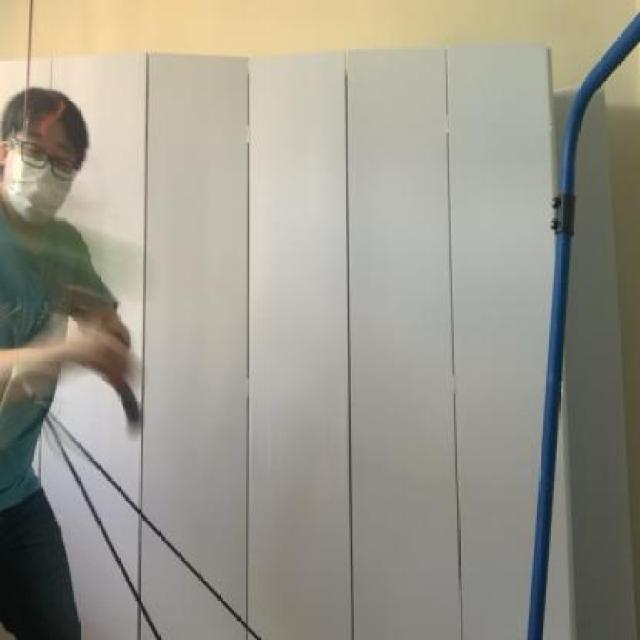baseball: (18, 211, 160, 304)
